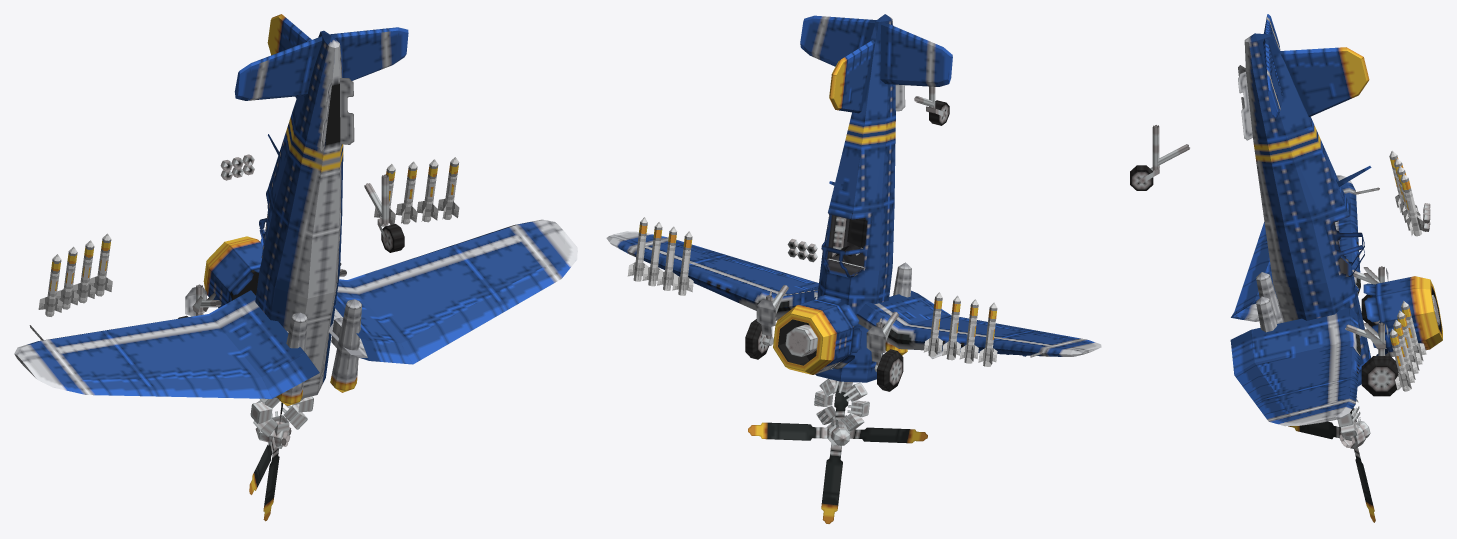
The picture shows the model from 3 angles, left to right: view 1: azimuth 30°, elevation 25°; view 2: azimuth 150°, elevation 25°; view 3: azimuth 270°, elevation 25°; orthographic projection. The views are drawn at different scales.
Visible parts, largest first — view 1: wingLeft_67, wingLeft_56, cylinder_20, cube_22, tube_37, cube_35, cylinder_34, cube_21, cylinder_23, cylinder_26, cylinder_69, cylinder_59 (+5 smaller); view 2: cylinder_20, wingLeft_67, wingLeft_56, tube_37, cube_22, cube_35, cube_21, plane_50, plane_49, cylinder_24, plane_51, cylinder_7 (+12 smaller); view 3: cylinder_20, wingLeft_56, cube_21, tube_37, wingLeft_67, cylinder_1, cylinder_24, cube_35, cylinder_60, cylinder_71, cylinder_23, plane_51 (+8 smaller).
Boxes of the visible parts, x1,y1,x2,y2 form: wingLeft_67: (14,290,319,398); wingLeft_56: (328,219,577,364); cylinder_20: (255,30,343,398); cube_22: (234,36,322,100); tube_37: (203,236,262,308); cube_35: (330,27,408,80); cylinder_34: (330,299,361,392); cube_21: (267,14,311,98); cylinder_23: (276,312,307,405); cylinder_26: (339,78,354,144); cylinder_69: (38,254,62,316); cylinder_59: (396,161,417,224); cylinder_20: (815,14,895,382); wingLeft_67: (856,290,1101,356); wingLeft_56: (606,231,818,317); tube_37: (773,295,861,374); cube_22: (880,21,952,86); cube_35: (800,15,876,66); cube_21: (829,40,874,113); plane_50: (748,422,834,440); plane_49: (821,440,842,523); cylinder_24: (821,207,873,277); plane_51: (850,427,927,443); cylinder_7: (877,349,903,391); cylinder_20: (1244,33,1370,386); wingLeft_56: (1230,308,1360,426); cube_21: (1279,47,1369,116); tube_37: (1363,276,1442,356); wingLeft_67: (1231,175,1360,321); cylinder_1: (1361,356,1398,396); cylinder_24: (1323,199,1364,276); cube_35: (1263,38,1283,117); cylinder_60: (1389,329,1414,391); cylinder_71: (1400,173,1425,236); cylinder_23: (1256,272,1283,323); plane_51: (1288,421,1351,440).
Size of the model in its own units: 12.42 by 11.71 by 6.77.
Materials: 2 (2 with a texture image).
